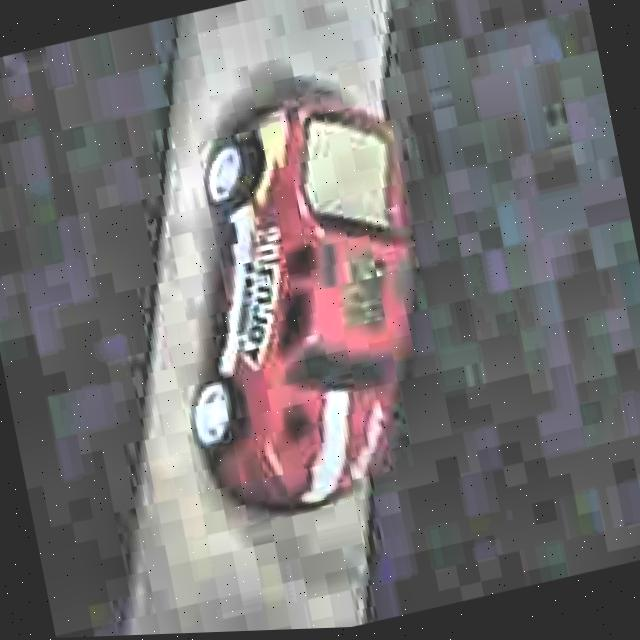car: (128, 71, 472, 540)
